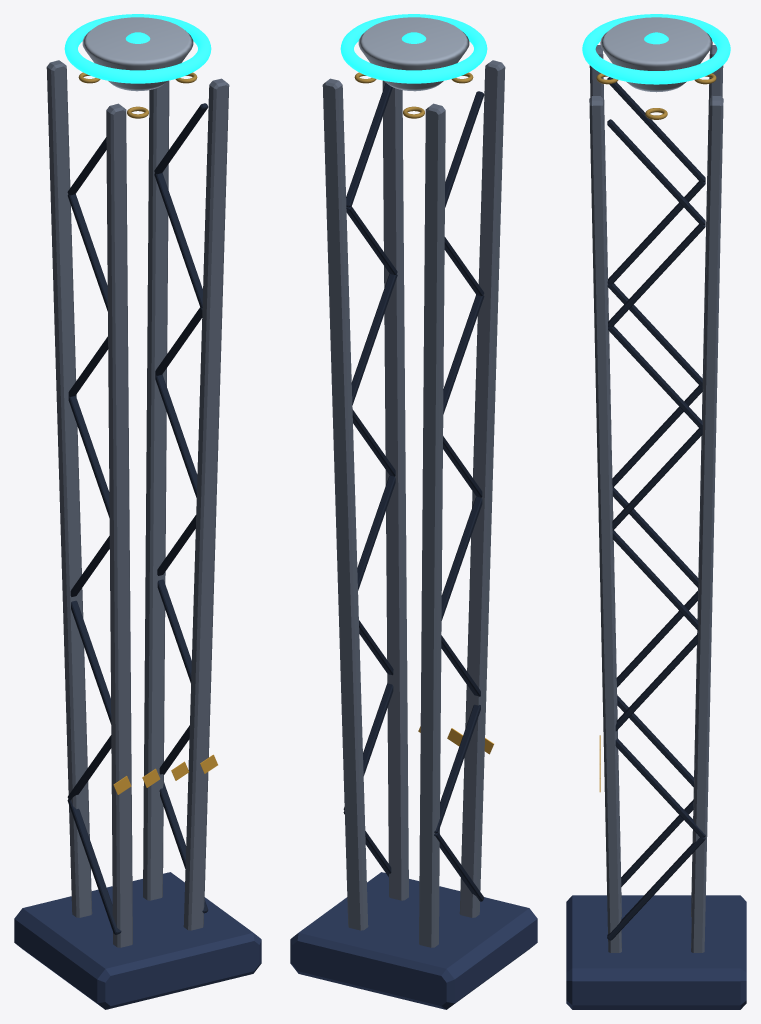
The model's file is shared_airlane_pylon.glb.
3 views of the same model, side by side, from view 1: azimuth 30°, elevation 25°; view 2: azimuth 150°, elevation 25°; view 3: azimuth 270°, elevation 25° (orthographic).
Parts seen in each view (by area): view 1: pylon_base, pylon_leg11, pylon_leg-11, pylon_leg-1-1, pylon_leg1-1, pylon_head, pylon_beacon, pylon_brace61, pylon_brace0-1, pylon_brace41, pylon_brace4-1, pylon_brace2-1 (+7 smaller); view 2: pylon_base, pylon_leg1-1, pylon_leg-1-1, pylon_leg-11, pylon_leg11, pylon_head, pylon_beacon, pylon_brace51, pylon_brace71, pylon_brace1-1, pylon_brace3-1, pylon_brace5-1 (+6 smaller); view 3: pylon_base, pylon_leg11, pylon_leg1-1, pylon_head, pylon_beacon, pylon_leg-11, pylon_leg-1-1, pylon_brace71, pylon_brace61, pylon_brace01, pylon_brace51, pylon_brace7-1 (+11 smaller).
Boxes of the visible parts, x1,y1,x2,y2 form: pylon_base: (14, 872, 261, 1009); pylon_leg11: (183, 78, 229, 930); pylon_leg-11: (106, 103, 132, 947); pylon_leg-1-1: (46, 60, 92, 917); pylon_leg1-1: (143, 80, 169, 900); pylon_head: (82, 17, 193, 91); pylon_beacon: (64, 14, 211, 83); pylon_brace61: (154, 173, 202, 307); pylon_brace0-1: (67, 799, 121, 934); pylon_brace41: (155, 374, 197, 497); pylon_brace4-1: (68, 395, 109, 517); pylon_brace2-1: (71, 600, 111, 724); pylon_base: (290, 872, 537, 1009); pylon_leg1-1: (322, 78, 368, 930); pylon_leg-1-1: (419, 103, 445, 947); pylon_leg-11: (459, 60, 505, 917); pylon_leg11: (382, 80, 408, 900); pylon_head: (358, 17, 469, 91); pylon_beacon: (340, 14, 487, 83); pylon_brace51: (351, 274, 397, 405); pylon_brace71: (346, 83, 392, 207); pylon_brace1-1: (434, 704, 480, 833); pylon_brace3-1: (441, 496, 482, 620); pylon_brace5-1: (443, 295, 484, 414); pylon_base: (566, 895, 746, 1009); pylon_leg11: (589, 96, 621, 952); pylon_leg1-1: (691, 96, 723, 952); pylon_head: (600, 17, 712, 92); pylon_beacon: (582, 14, 730, 84); pylon_leg-11: (589, 45, 621, 917); pylon_leg-1-1: (691, 45, 723, 917); pylon_brace71: (607, 119, 705, 225); pylon_brace61: (608, 224, 705, 327); pylon_brace01: (607, 837, 705, 940); pylon_brace51: (608, 326, 702, 429); pylon_brace7-1: (607, 77, 705, 182).
Bounding box in the file's own units: 1.71 × 9.2 × 1.6.
